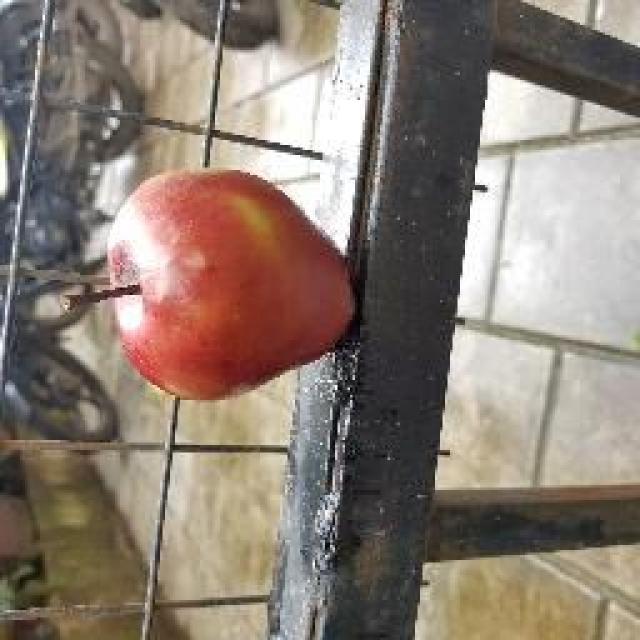Good_Apple: (108, 168, 358, 405)
